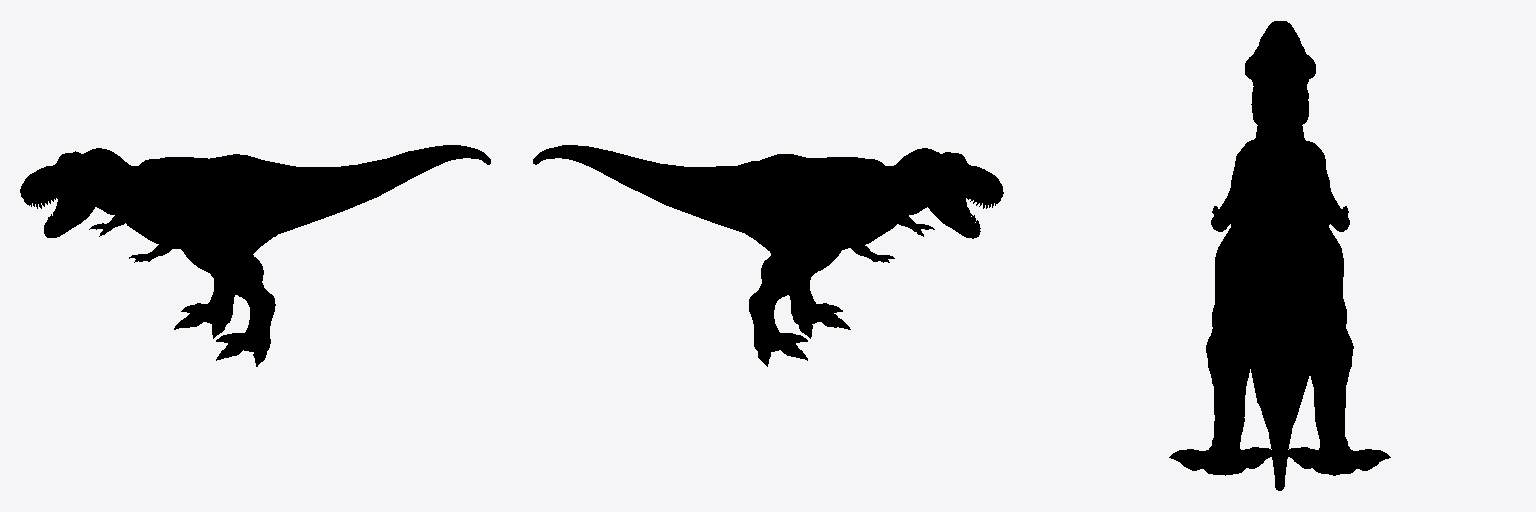
URDF robot description (trex):
<?xml version="1.0" ?>
<robot name="trex">
  <link name="baseLink">
    <contact>
      <lateral_friction value="1.0"/>
      <rolling_friction value="0.0"/>
      <contact_cfm value="0.0"/>
      <contact_erp value="1.0"/>
    </contact>
    <inertial>
      <origin rpy="0 0 0" xyz="0.0225 0.000 0.0047"/>
       <mass value="0.30"/>
       <inertia ixx="0.00012333" ixy="-0.0" ixz="-0.0" iyy="0.00005145" iyz="0.00000007" izz="0.00012910"/>
    </inertial>
    <visual>
      <origin rpy="0 0 0" xyz="0.0225 0.000 0.0047"/>
      <geometry>
        <mesh filename="../obj/trex.obj" scale="0.001 0.001 0.001"/>
      </geometry>
       <material name="black">
        <color rgba="0 0 0 1"/>
      </material>
    </visual>
    <collision concave="yes">
      <origin rpy="0 0 0" xyz="0.0225 0.000 0.0047"/>
      <geometry>
	 	<mesh filename="../obj/trex.obj" scale="0.001 0.001 0.001"/>
      </geometry>
    </collision>
  </link>
</robot>

--- Facts derived from the render (not from the file) ---
3 views of the same robot in one strip: view 1: azimuth 30°, elevation 25°; view 2: azimuth 150°, elevation 25°; view 3: azimuth 270°, elevation 25° (orthographic).
Model trex with 1 links and 0 joints (none), rooted at baseLink, posed all joints at 0.
Links seen in each view (by area): view 1: baseLink; view 2: baseLink; view 3: baseLink.
Link boxes in pixels (x1=…): baseLink: x1=20, y1=145, x2=490, y2=366; baseLink: x1=533, y1=145, x2=1003, y2=366; baseLink: x1=1169, y1=21, x2=1390, y2=490.
Bounding box of the posed robot: 0.4372 × 0.1228 × 0.199 m (x, y, z).
Meshes: 1 distinct files referenced, 1 mesh visuals loaded (1 OBJ).
